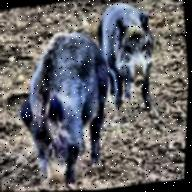boar: (15, 18, 119, 187), (85, 0, 168, 121)
